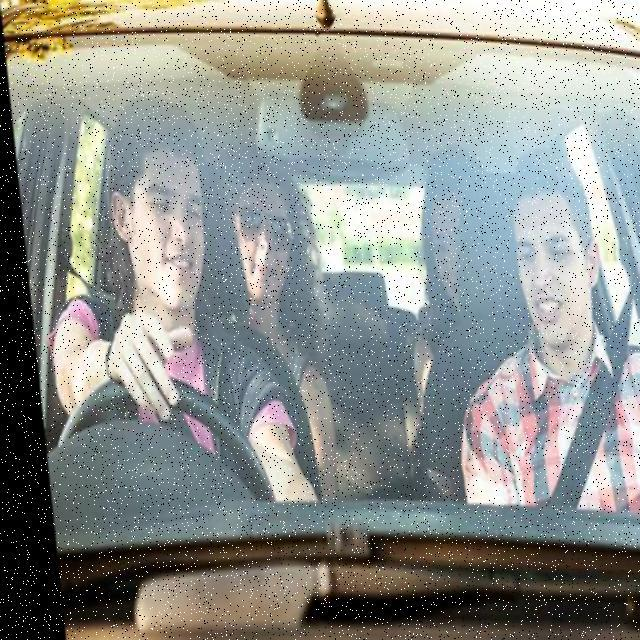seatbelt: (480, 323, 640, 518)
